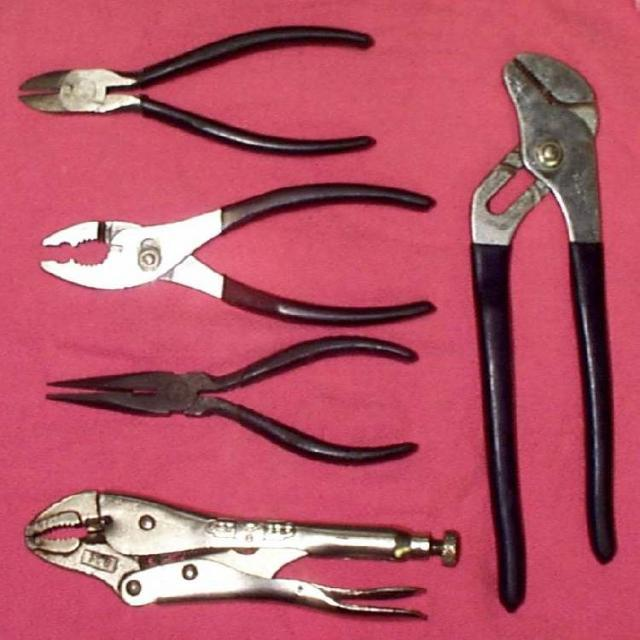pliers: (466, 45, 624, 618), (31, 176, 443, 332), (19, 481, 468, 624), (12, 15, 385, 164), (36, 330, 424, 470)
